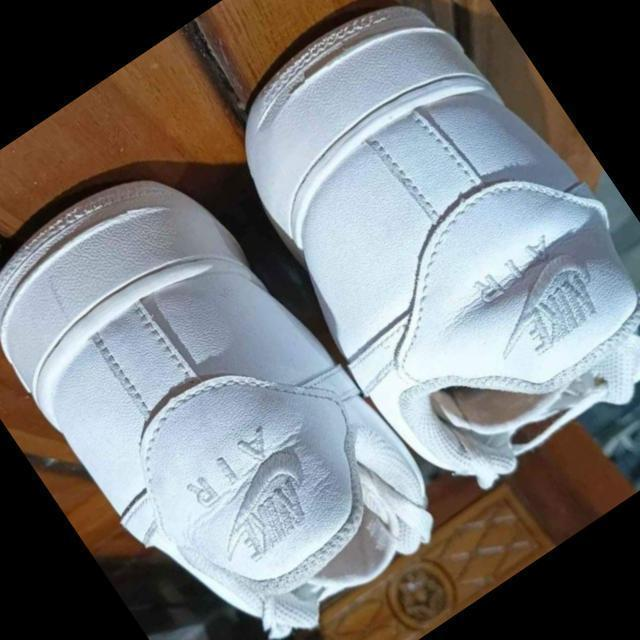nike fake air force: (0, 121, 467, 640), (184, 0, 640, 529)
